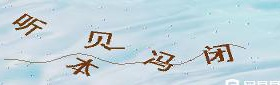chinese: (202, 42, 236, 70), (15, 12, 43, 38), (147, 51, 176, 71), (88, 29, 112, 52), (70, 57, 94, 79)
